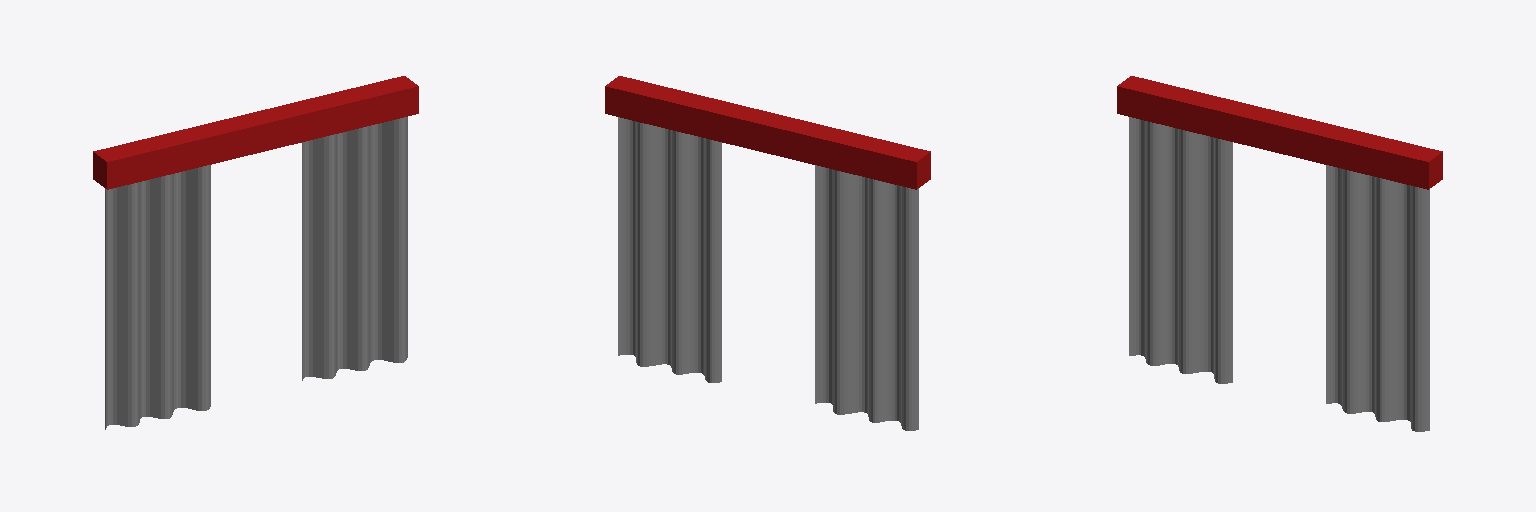
Rendered from Curtains_502.obj.
3 views of the same model, side by side, from view 1: azimuth 30°, elevation 25°; view 2: azimuth 150°, elevation 25°; view 3: azimuth 330°, elevation 25° (orthographic).
Parts seen in each view (by area): view 1: Line001, Line002, ChamferBox001; view 2: Line001, Line002, ChamferBox001; view 3: Line002, Line001, ChamferBox001.
Part boxes in pixels (x1,y1,x2,y2): Line001: (105,165,210,429); Line002: (302,117,407,380); ChamferBox001: (93,76,418,189); Line001: (815,165,918,430); Line002: (618,117,721,382); ChamferBox001: (605,76,930,189); Line002: (1326,165,1429,431); Line001: (1129,117,1232,383); ChamferBox001: (1117,76,1442,189).
Bounding box in the file's own units: 68.86 × 57.9 × 5.56.